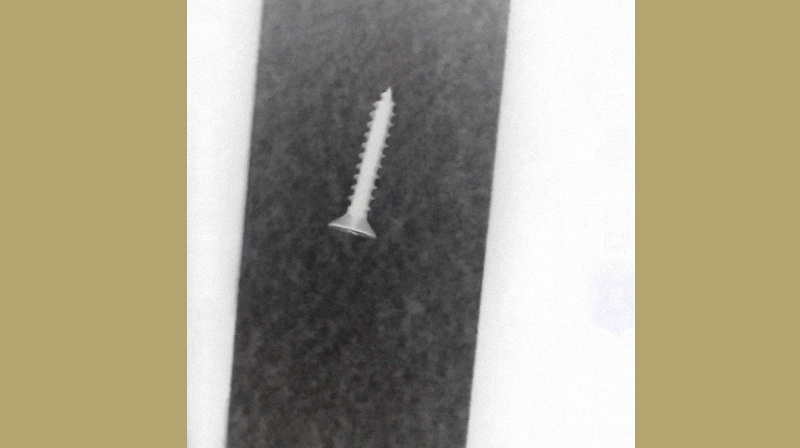S001: (325, 80, 403, 239)
